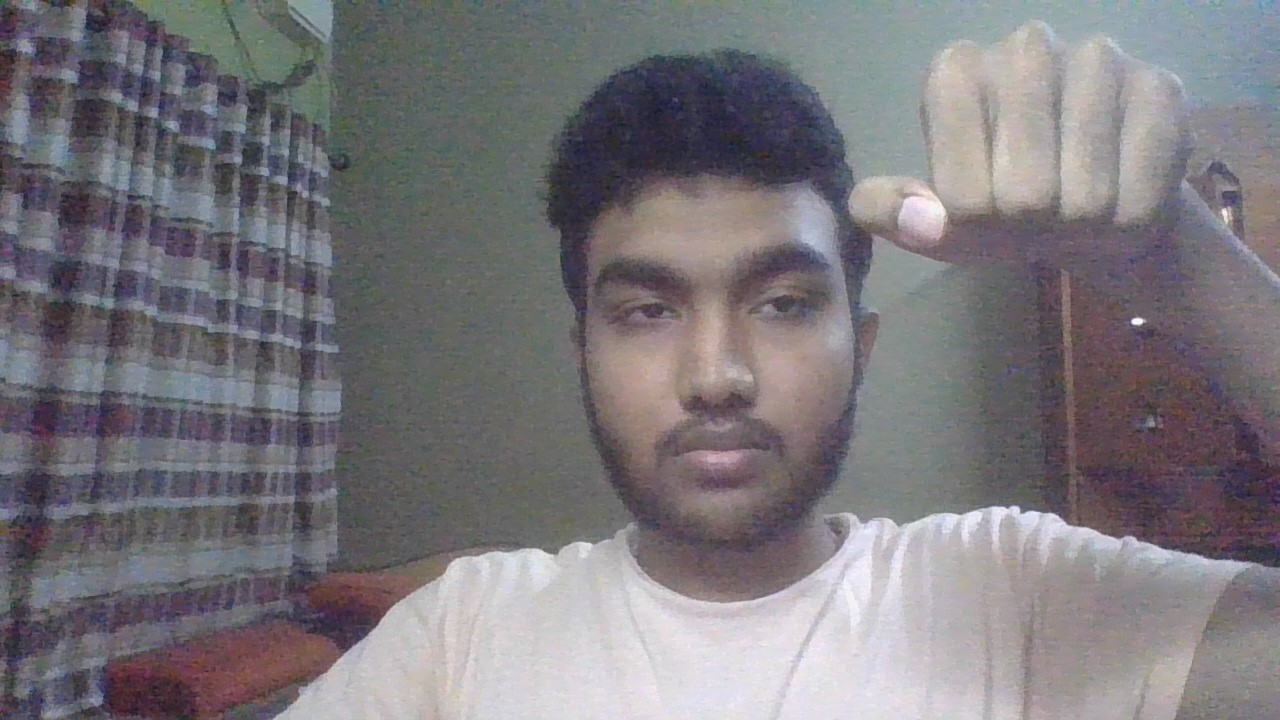Yes: (849, 17, 1201, 289)
